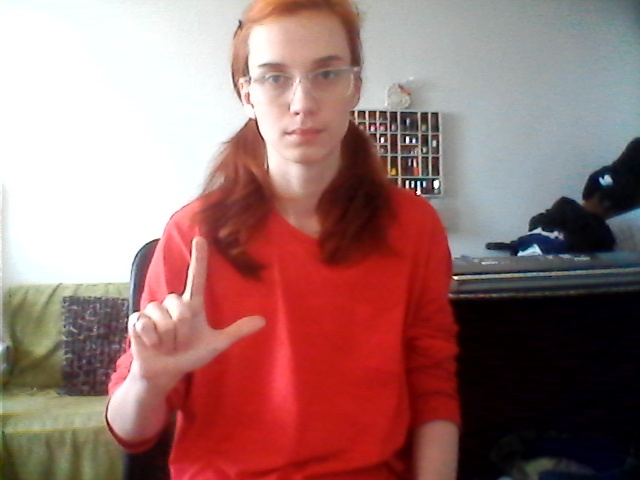l: (121, 234, 272, 378)
